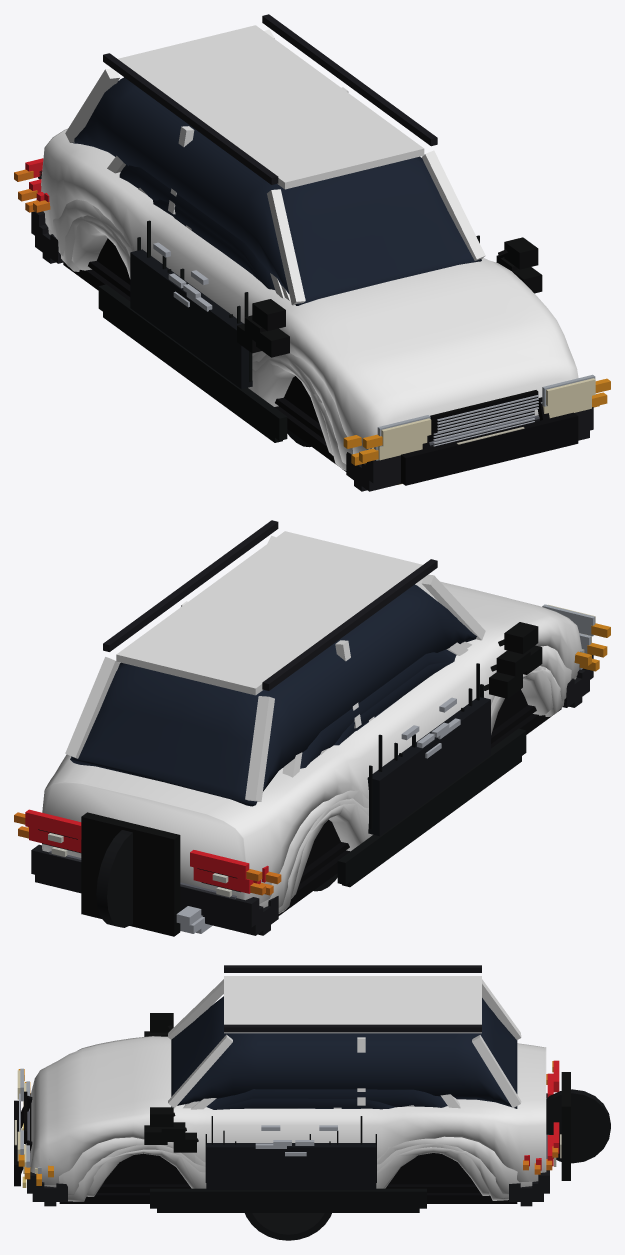
Rendered from cars.glb.
The picture shows the model from 3 angles, top to bottom: view 1: azimuth 30°, elevation 25°; view 2: azimuth 150°, elevation 25°; view 3: azimuth 270°, elevation 25°; orthographic projection. The views are drawn at different scales.
Parts seen in each view (by area): view 1: car_suv_paint, car_suv_detail, car_cop_detail, car_hatch_detail, car_coupe_detail, car_sedan_paint, car_suv_lit, car_hatch_paint, car_sedan_lit, car_coupe_paint; view 2: car_suv_paint, car_suv_detail, car_cop_detail, car_coupe_detail, car_hatch_detail, car_sedan_paint, car_suv_lit, car_hatch_paint, car_sedan_lit, car_coupe_paint; view 3: car_suv_paint, car_suv_detail, car_cop_detail, car_hatch_detail, car_sedan_paint, car_coupe_detail, car_hatch_paint, car_coupe_paint, car_suv_wheel, car_suv_lit, car_sedan_lit, car_coupe_wheel (+1 smaller).
Boxes of the visible parts, bbox=[...] form: car_suv_paint: bbox=[41, 25, 578, 453]; car_suv_detail: bbox=[31, 14, 593, 483]; car_cop_detail: bbox=[35, 199, 589, 491]; car_hatch_detail: bbox=[50, 164, 518, 479]; car_coupe_detail: bbox=[42, 217, 402, 491]; car_sedan_paint: bbox=[47, 188, 352, 464]; car_suv_lit: bbox=[14, 158, 610, 448]; car_hatch_paint: bbox=[71, 155, 333, 455]; car_sedan_lit: bbox=[18, 179, 607, 462]; car_coupe_paint: bbox=[60, 216, 346, 470]; car_suv_paint: bbox=[42, 531, 581, 903]; car_suv_detail: bbox=[31, 520, 593, 936]; car_cop_detail: bbox=[35, 645, 589, 935]; car_coupe_detail: bbox=[196, 672, 582, 935]; car_hatch_detail: bbox=[268, 650, 574, 924]; car_sedan_paint: bbox=[259, 641, 576, 907]; car_suv_lit: bbox=[14, 604, 610, 883]; car_hatch_paint: bbox=[282, 642, 553, 898]; car_sedan_lit: bbox=[18, 633, 607, 897]; car_coupe_paint: bbox=[278, 668, 564, 913]; car_suv_paint: bbox=[30, 976, 546, 1184]; car_suv_detail: bbox=[14, 965, 610, 1199]; car_cop_detail: bbox=[14, 1031, 556, 1208]; car_hatch_detail: bbox=[56, 1032, 520, 1208]; car_sedan_paint: bbox=[44, 1101, 535, 1194]; car_coupe_detail: bbox=[44, 1108, 532, 1212]; car_hatch_paint: bbox=[86, 1094, 489, 1196]; car_coupe_paint: bbox=[68, 1147, 508, 1201]; car_suv_wheel: bbox=[245, 1213, 331, 1240]; car_suv_lit: bbox=[17, 1060, 559, 1166]; car_sedan_lit: bbox=[23, 1073, 553, 1179]; car_coupe_wheel: bbox=[260, 1213, 316, 1228].
Size of the model in its own units: 2.04 by 2.25 by 5.09.
